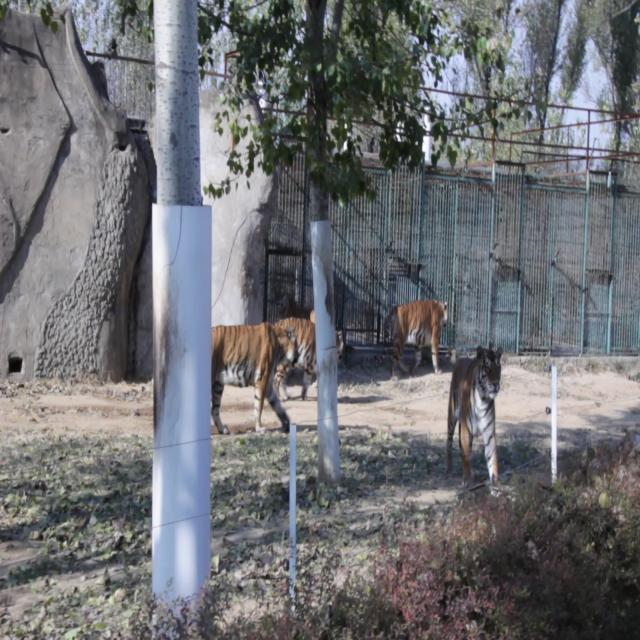Tiger: (210, 309, 298, 435), (439, 340, 510, 494), (271, 306, 352, 399), (381, 291, 449, 388)
